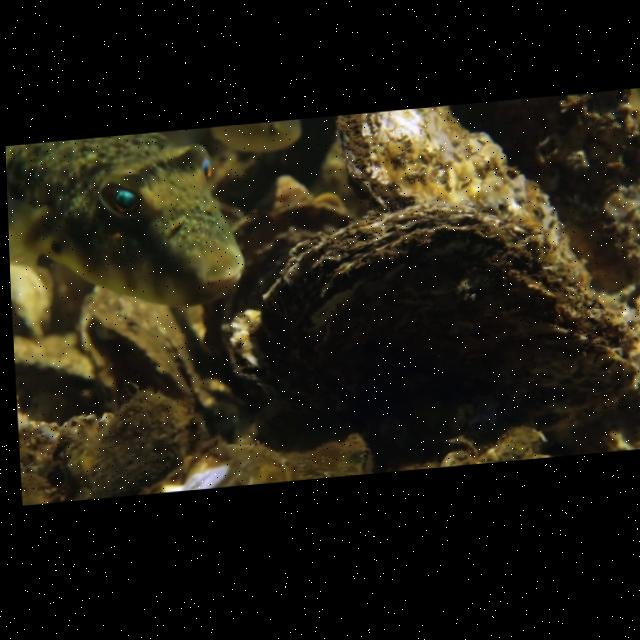Oyster-Closed: (247, 204, 640, 442), (331, 105, 583, 261), (85, 307, 202, 402)
Oyster-Open: (216, 205, 349, 307)
